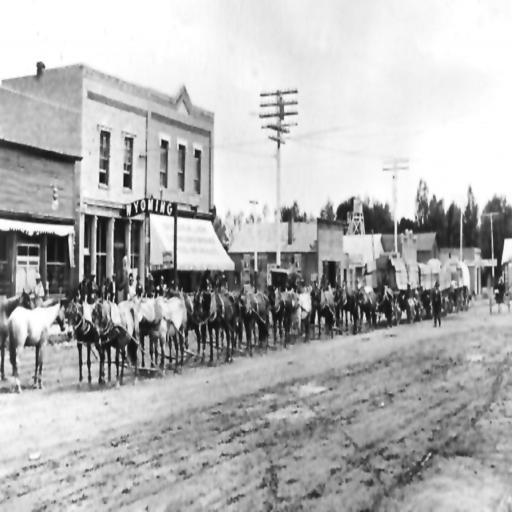Horse: (63, 281, 468, 387), (7, 297, 65, 397), (0, 288, 33, 383)
